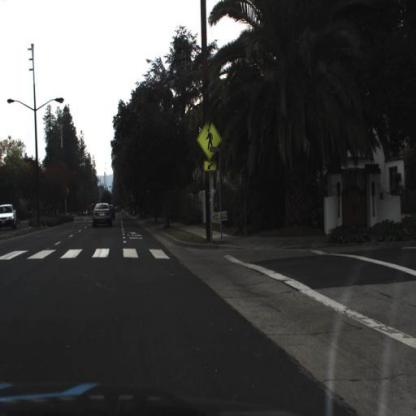car: (88, 196, 115, 237), (2, 204, 18, 232), (110, 201, 116, 228), (111, 200, 117, 226)
